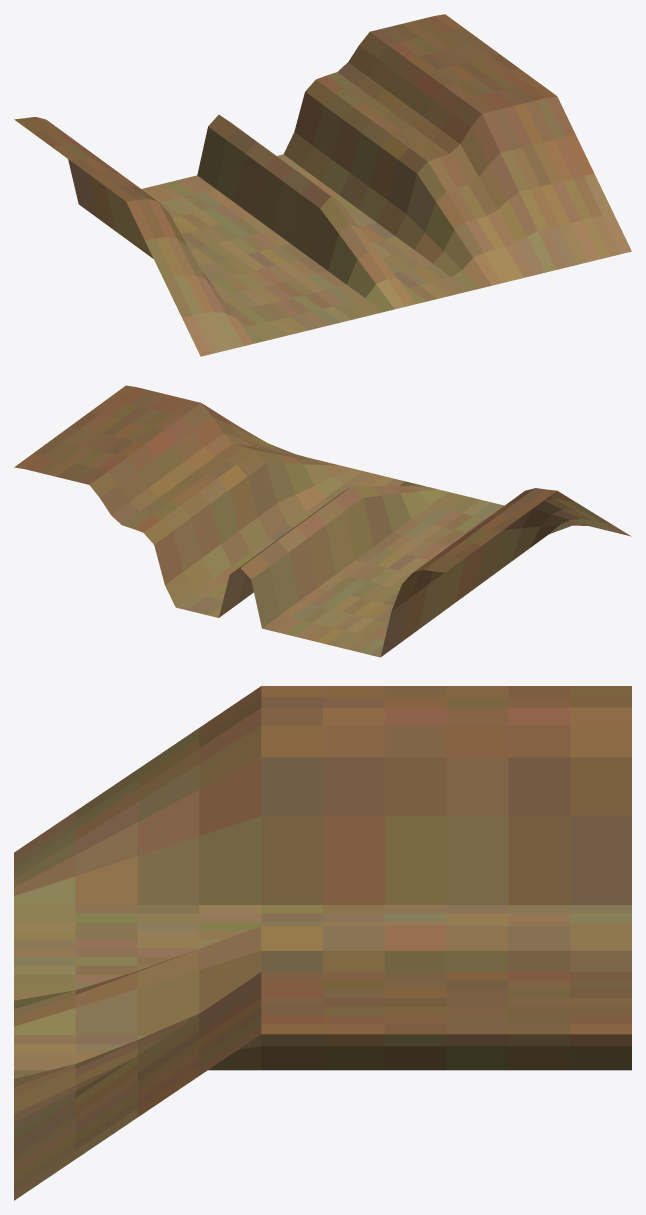
File: bg_desert_ridge_1_idle.glb
3 renders of one model, top to bottom at view 1: azimuth 30°, elevation 25°; view 2: azimuth 150°, elevation 25°; view 3: azimuth 270°, elevation 25°, orthographic. The views are drawn at different scales.
Parts seen in each view (by area): view 1: ridge; view 2: ridge; view 3: ridge.
Part boxes in pixels (<box>): ridge: <box>14,14,631,356</box>; ridge: <box>14,385,631,657</box>; ridge: <box>14,686,631,1200</box>.
Bounding box in the file's own units: 40 × 9 × 30.
